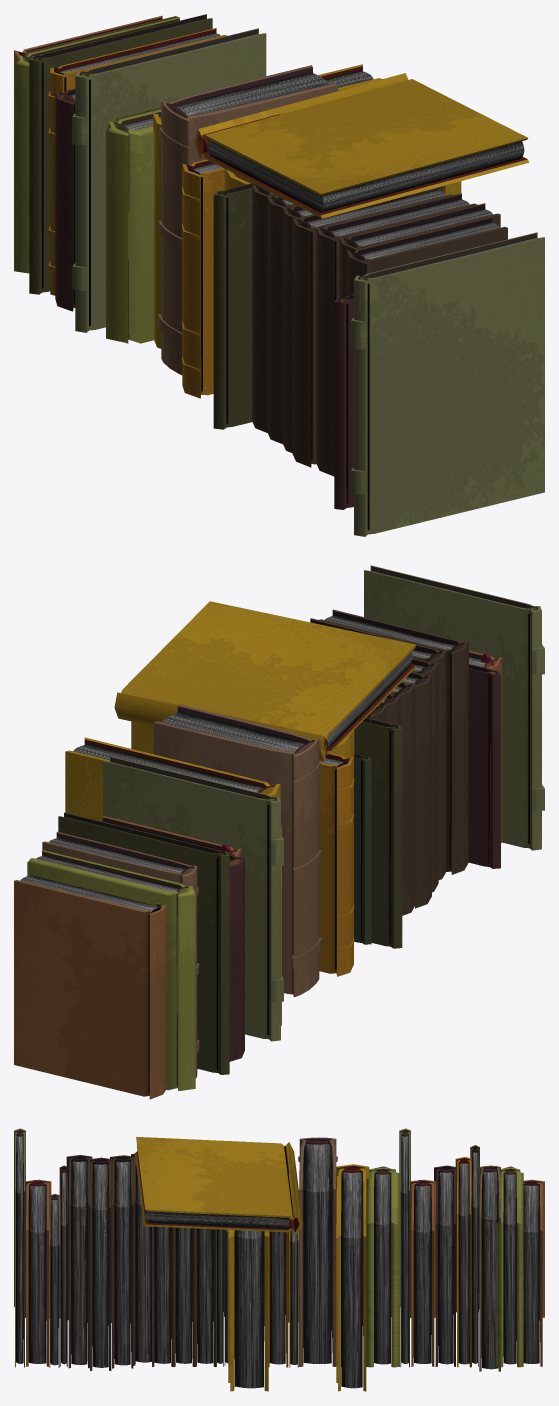
File: Shelf14.fbx
3 renders of one model, top to bottom at view 1: azimuth 30°, elevation 25°; view 2: azimuth 150°, elevation 25°; view 3: azimuth 270°, elevation 25°, orthographic. The views are drawn at different scales.
Visible parts, largest first — view 1: pCube14 (×2), pCube68 (×7), pCube12 (×2), pCube67 (×2), pCube11 (×2), pCube15 (×2), pCube71, pCube69 (×2), pages14, pages8 (×4), pages13, pages16 (×2) (+3 smaller); view 2: pCube14 (×2), pCube12 (×3), pCube72 (×2), pCube71 (×2), pCube67 (×2), pCube68 (×5), pCube69 (×2), pCube11, pCube15, pCube66, pages13 (×2), pages14 (×2) (+5 smaller); view 3: pages8 (×7), pCube12 (×3), pages14 (×3), pages17 (×3), pages13 (×2), pCube68 (×7), pCube11 (×2), pages15 (×2), pages11 (×2), pCube72 (×3), pages9 (×2), pages16 (×2) (+11 smaller).
Boxes of the visible parts, box(x1,y1,x2,y2) form: pCube14 (×2): box(72, 28, 544, 536); pCube68 (×7): box(252, 184, 507, 476); pCube12 (×2): box(153, 64, 528, 348); pCube67 (×2): box(29, 14, 257, 429); pCube11 (×2): box(14, 16, 179, 343); pCube15 (×2): box(48, 28, 227, 398); pCube71: box(158, 65, 338, 375); pCube69 (×2): box(55, 88, 353, 509); pages14: box(207, 139, 524, 212); pages8 (×4): box(306, 190, 499, 460); pages13: box(177, 72, 328, 115); pages16 (×2): box(89, 33, 537, 530); pCube14 (×2): box(103, 565, 544, 1041); pCube12 (×3): box(65, 601, 416, 821); pCube72 (×2): box(14, 815, 241, 1099); pCube71 (×2): box(42, 704, 322, 1078); pCube67 (×2): box(58, 717, 402, 1074); pCube68 (×5): box(310, 609, 468, 915); pCube69 (×2): box(229, 664, 500, 1061); pCube11: box(27, 850, 195, 1090); pCube15: box(319, 753, 354, 976); pCube66: box(353, 753, 371, 944); pages13 (×2): box(49, 711, 304, 872); pages14 (×2): box(73, 651, 412, 791); pages8 (×7): box(71, 1161, 213, 1367); pCube12 (×3): box(135, 1137, 369, 1391); pages14 (×3): box(137, 1146, 362, 1388); pages17 (×3): box(28, 1185, 539, 1363); pages13 (×2): box(303, 1144, 498, 1369); pCube68 (×7): box(66, 1153, 215, 1370); pCube11 (×2): box(366, 1166, 523, 1367); pages15 (×2): box(374, 1174, 516, 1364); pages11 (×2): box(269, 1163, 469, 1364); pCube72 (×3): box(25, 1179, 544, 1366); pages9 (×2): box(61, 1172, 453, 1364); pages16 (×2): box(16, 1136, 408, 1363).
Bounding box in the file's own units: 1.11 × 1.11 × 2.76.
